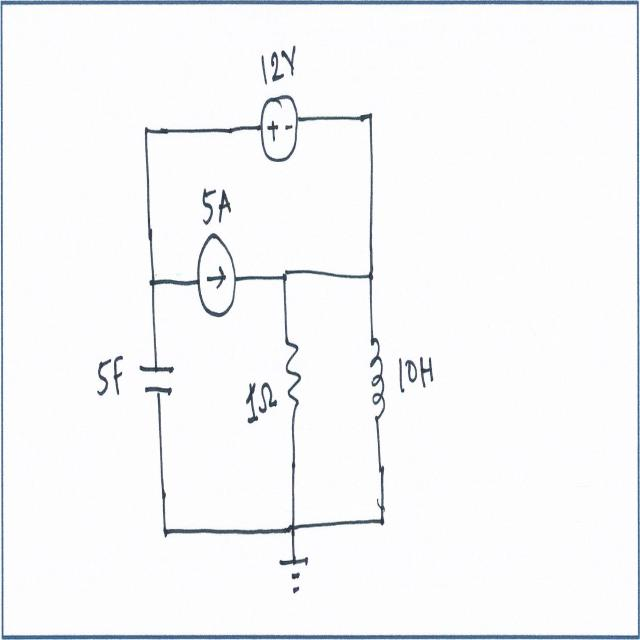capacitor: (137, 359, 178, 413)
current_source: (194, 230, 238, 323)
ground: (274, 552, 311, 594)
inductor: (364, 332, 389, 433)
resistor: (282, 333, 308, 422)
voltage_source: (257, 91, 301, 172)
